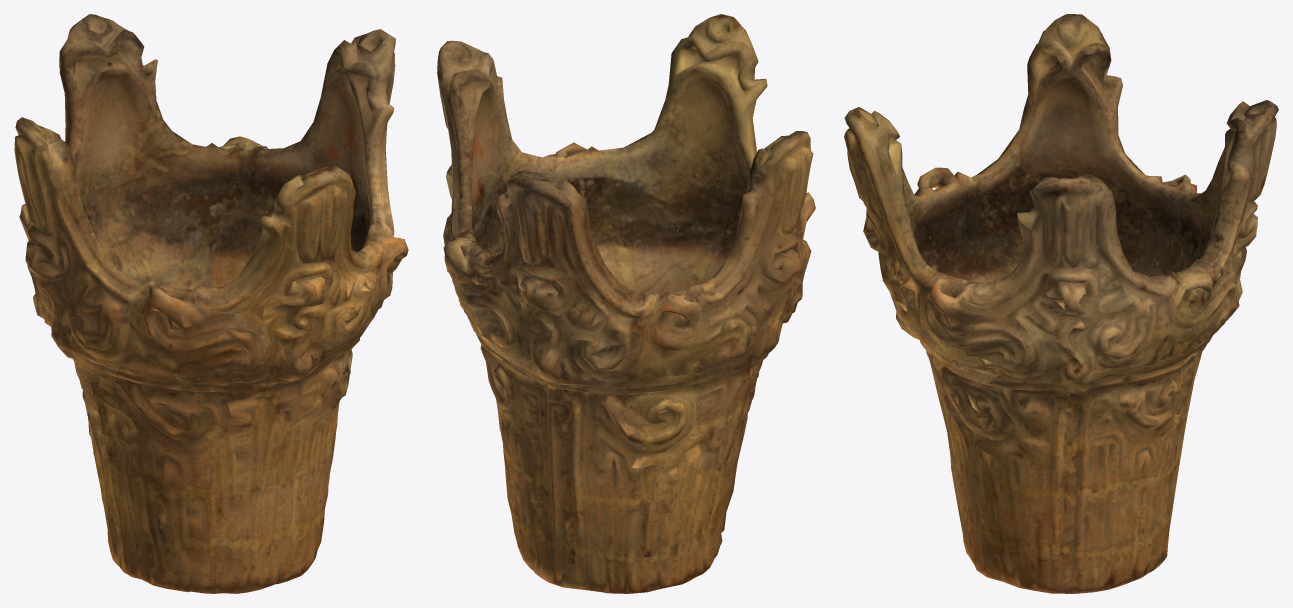
3 renders of one model, left to right at view 1: azimuth 30°, elevation 25°; view 2: azimuth 150°, elevation 25°; view 3: azimuth 270°, elevation 25°, orthographic. The views are drawn at different scales.
Parts seen in each view (by area): view 1: UD0005_low; view 2: UD0005_low; view 3: UD0005_low.
Boxes of the visible parts, x1,y1,x2,y2 form: UD0005_low: (14, 14, 408, 593); UD0005_low: (437, 14, 815, 593); UD0005_low: (844, 14, 1278, 593).
Bounding box in the file's own units: 241 × 295 × 254.
Materials: 1 (1 with a texture image).
